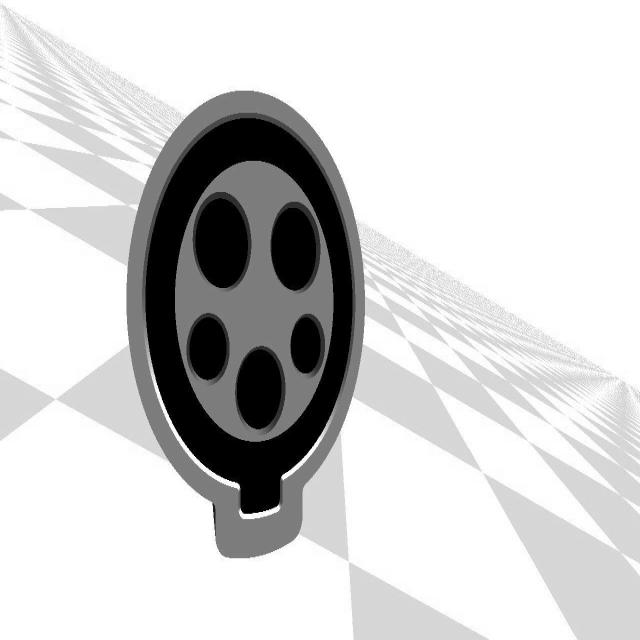Type 1: (118, 73, 378, 573)
